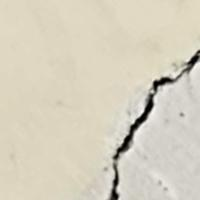crack: (106, 47, 199, 199)
